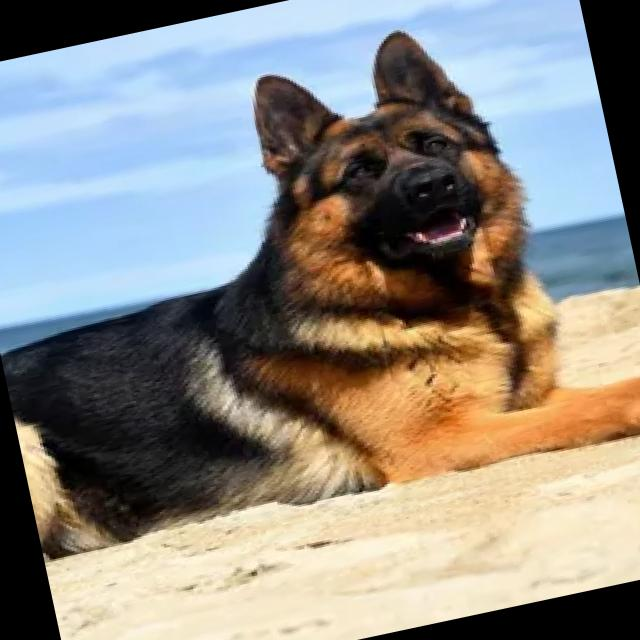Dog: (150, 8, 580, 513)
